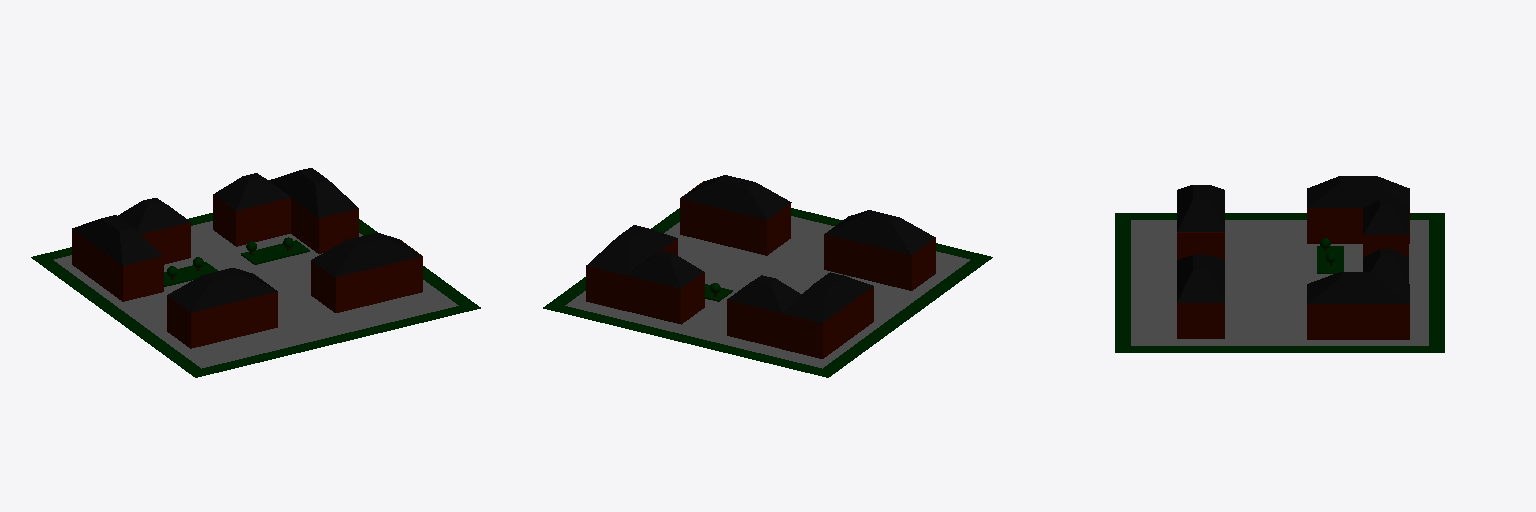
Rendered from shelby.obj.
3 views of the same model, side by side, from view 1: azimuth 30°, elevation 25°; view 2: azimuth 150°, elevation 25°; view 3: azimuth 270°, elevation 25° (orthographic).
Visible parts, largest first — view 1: Plane_Plane.001, Ground_Plane, Cube.009, Cube.010, Cube.012, Cube.008, Cube.016_Cube.019, Cube.015, Cube.013, Cube.018, Cube.007, Cube.017 (+4 smaller); view 2: Plane_Plane.001, Ground_Plane, Cube.010, Cube.009, Cube.012, Cube.008, Cube.016_Cube.019, Cube.015, Cube.013, Cube.018, Cube.011, Cube.007 (+2 smaller); view 3: Plane_Plane.001, Ground_Plane, Cube.007, Cube.018, Cube.013, Cube.016_Cube.019, Cube.015, Cube.012, Cube.009, Cube.014, Cube.010, Cube.017 (+2 smaller).
Part boxes in pixels (left/top/right/bottom): Plane_Plane.001: left=54, top=221, right=458, bottom=368; Ground_Plane: left=31, top=213, right=480, bottom=377; Cube.009: left=311, top=239, right=422, bottom=312; Cube.010: left=167, top=276, right=277, bottom=348; Cube.012: left=72, top=229, right=163, bottom=301; Cube.008: left=213, top=194, right=290, bottom=246; Cube.016_Cube.019: left=311, top=232, right=421, bottom=277; Cube.015: left=167, top=268, right=277, bottom=312; Cube.013: left=72, top=215, right=162, bottom=265; Cube.018: left=269, top=168, right=358, bottom=217; Cube.007: left=291, top=198, right=358, bottom=253; Cube.017: left=214, top=173, right=290, bottom=210; Plane_Plane.001: left=565, top=216, right=969, bottom=368; Ground_Plane: left=543, top=208, right=992, bottom=377; Cube.010: left=824, top=216, right=935, bottom=290; Cube.009: left=680, top=181, right=790, bottom=255; Cube.012: left=782, top=286, right=873, bottom=358; Cube.008: left=627, top=272, right=704, bottom=324; Cube.016_Cube.019: left=681, top=175, right=791, bottom=219; Cube.015: left=825, top=210, right=935, bottom=254; Cube.013: left=782, top=272, right=872, bottom=322; Cube.018: left=587, top=225, right=676, bottom=274; Cube.011: left=727, top=287, right=781, bottom=348; Cube.007: left=586, top=238, right=677, bottom=310; Plane_Plane.001: left=1131, top=220, right=1428, bottom=345; Ground_Plane: left=1115, top=213, right=1444, bottom=352; Cube.007: left=1307, top=304, right=1409, bottom=339; Cube.018: left=1307, top=272, right=1409, bottom=303; Cube.013: left=1307, top=176, right=1409, bottom=207; Cube.016_Cube.019: left=1177, top=255, right=1224, bottom=302; Cube.015: left=1177, top=185, right=1224, bottom=231; Cube.012: left=1307, top=208, right=1409, bottom=243; Cube.009: left=1177, top=303, right=1224, bottom=338; Cube.014: left=1363, top=199, right=1408, bottom=234; Cube.010: left=1177, top=232, right=1224, bottom=259; Cube.017: left=1363, top=249, right=1408, bottom=283.
Size of the model in its own units: 100 by 18.89 by 100.